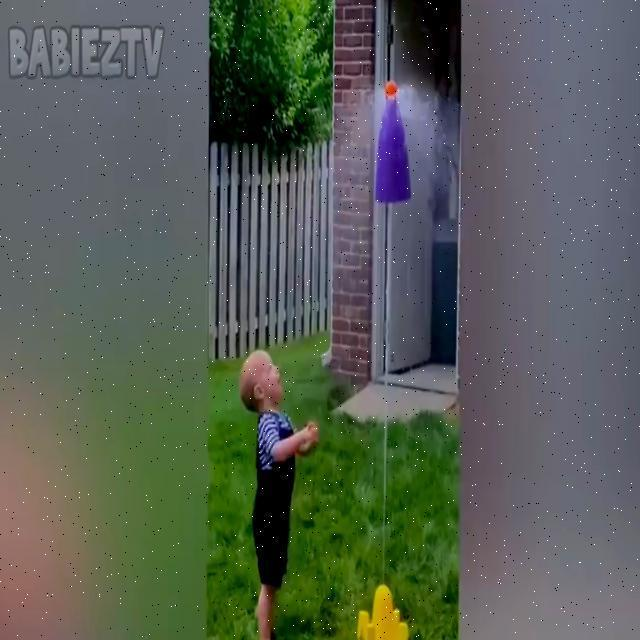child: (240, 347, 319, 640)
